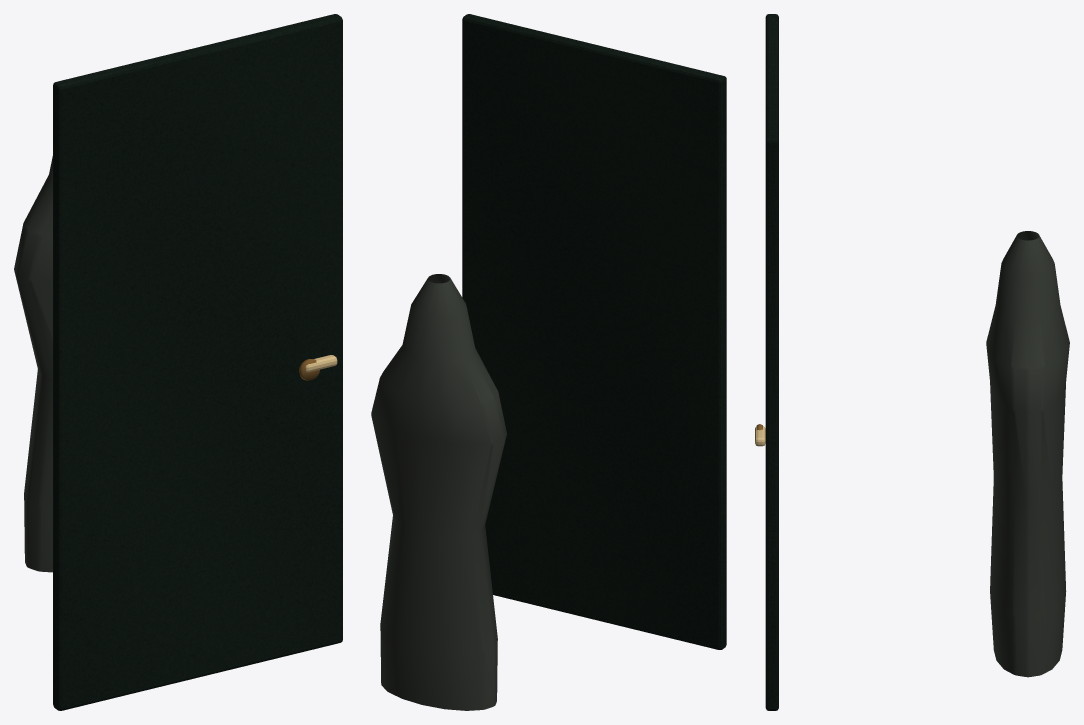
File: door-memory.glb
The picture shows the model from 3 angles, left to right: view 1: azimuth 30°, elevation 25°; view 2: azimuth 150°, elevation 25°; view 3: azimuth 270°, elevation 25°; orthographic projection. The views are drawn at different scales.
Parts seen in each view (by area): view 1: Watch_Door_Memory / Forest velvet / Watch_door_hinge, Watch_curator_memory; view 2: Watch_Door_Memory / Forest velvet / Watch_door_hinge, Watch_curator_memory; view 3: Watch_curator_memory, Watch_Door_Memory / Forest velvet / Watch_door_hinge.
Part boxes in pixels (left/top/right/bottom): Watch_Door_Memory / Forest velvet / Watch_door_hinge: left=53, top=14, right=342, bottom=710; Watch_curator_memory: left=14, top=156, right=52, bottom=572; Watch_Door_Memory / Forest velvet / Watch_door_hinge: left=462, top=14, right=726, bottom=649; Watch_curator_memory: left=371, top=274, right=506, bottom=710; Watch_curator_memory: left=986, top=231, right=1069, bottom=677; Watch_Door_Memory / Forest velvet / Watch_door_hinge: left=765, top=14, right=778, bottom=710.
Size of the model in its own units: 1.13 by 2.37 by 1.18.
Materials: 5 (3 with a texture image).
